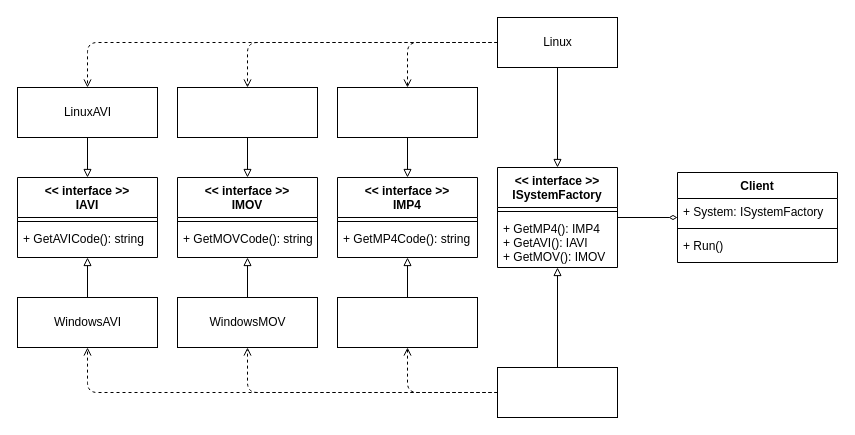
This 855x435 diagram has some shape labels left out. Each missing label, with the centre of its shape:
"LinuxMOV" belongs at (x=247, y=112).
"LinuxMP4" belongs at (x=407, y=112).
"Windows" belongs at (x=557, y=392).
"WindowsMP4" belongs at (x=407, y=322).
